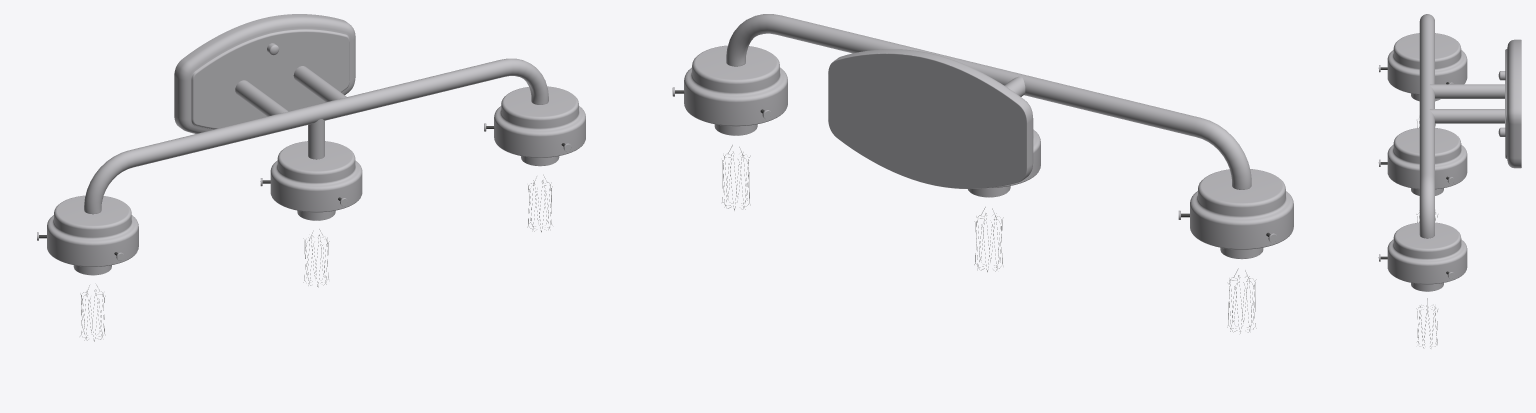
The model's file is lamp_B07B4Z9C39.glb.
3 renders of one model, left to right at view 1: azimuth 30°, elevation 25°; view 2: azimuth 150°, elevation 25°; view 3: azimuth 270°, elevation 25°, orthographic. The views are drawn at different scales.
Visible parts, largest first — view 1: "$AKJJCNGJEHBAAAAAICBAAAAAAAAAHCGNONBD"; view 2: "$AKJJCNGJEHBAAAAAICBAAAAAAAAAHCGNONBD"; view 3: "$AKJJCNGJEHBAAAAAICBAAAAAAAAAHCGNONBD".
Part boxes in pixels (<box>): "$AKJJCNGJEHBAAAAAICBAAAAAAAAAHCGNONBD": <box>37,14,585,341</box>; "$AKJJCNGJEHBAAAAAICBAAAAAAAAAHCGNONBD": <box>672,14,1293,333</box>; "$AKJJCNGJEHBAAAAAICBAAAAAAAAAHCGNONBD": <box>1378,14,1521,348</box>.
Bounding box in the file's own units: 0.6376 × 0.2921 × 0.1773.
Materials: 1 (1 with a texture image).
